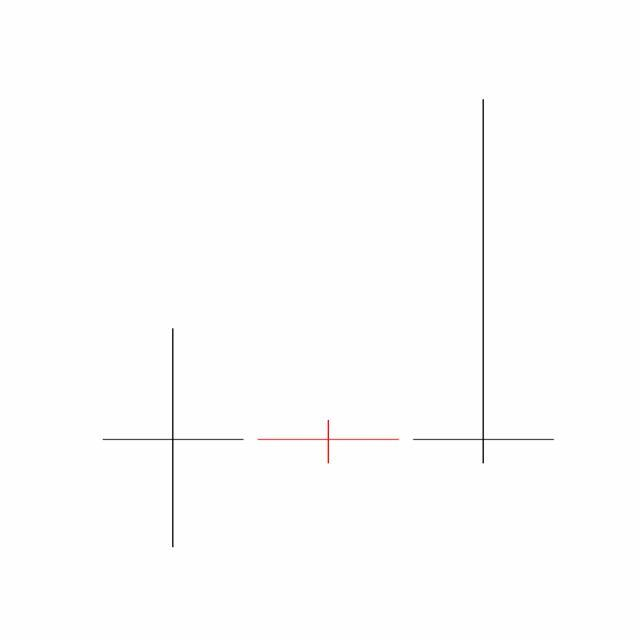Dragonfly Doji: (250, 420, 407, 466)
